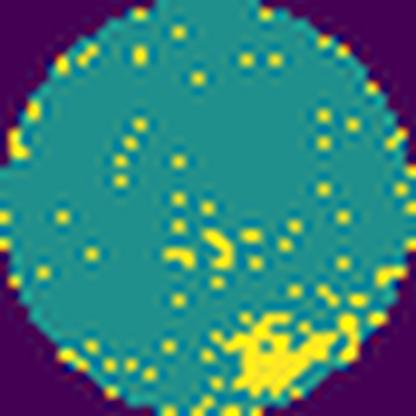Loc: (212, 307, 335, 392)
